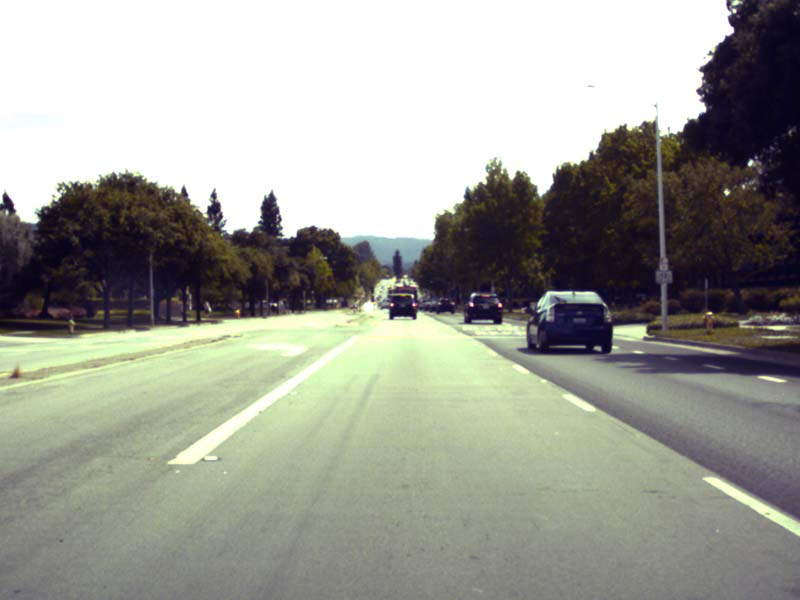Green: (427, 276, 434, 286)
